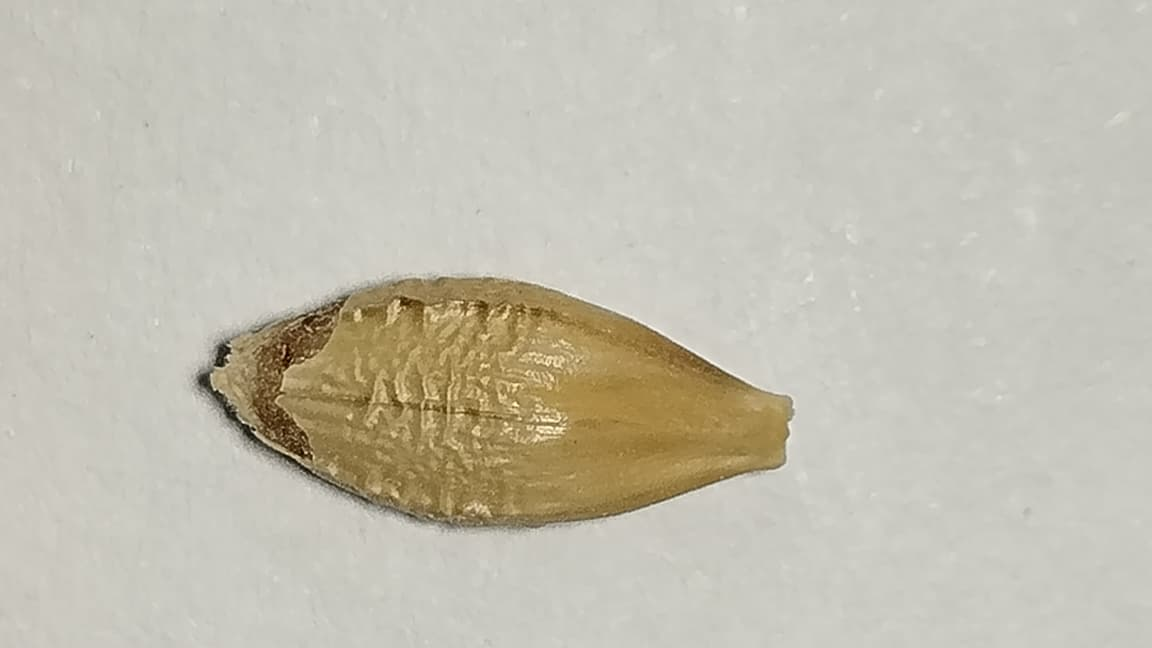healthy-50-40: (225, 279, 789, 524)
shriveledseed: (377, 290, 548, 396), (390, 385, 535, 454), (398, 503, 543, 529), (472, 446, 517, 499)
staindamage: (252, 306, 338, 460)
